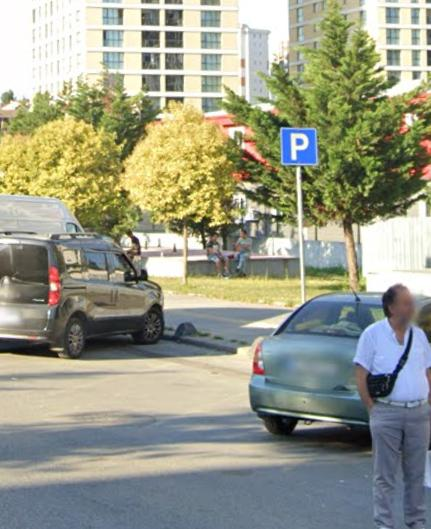park: (283, 128, 314, 161)
